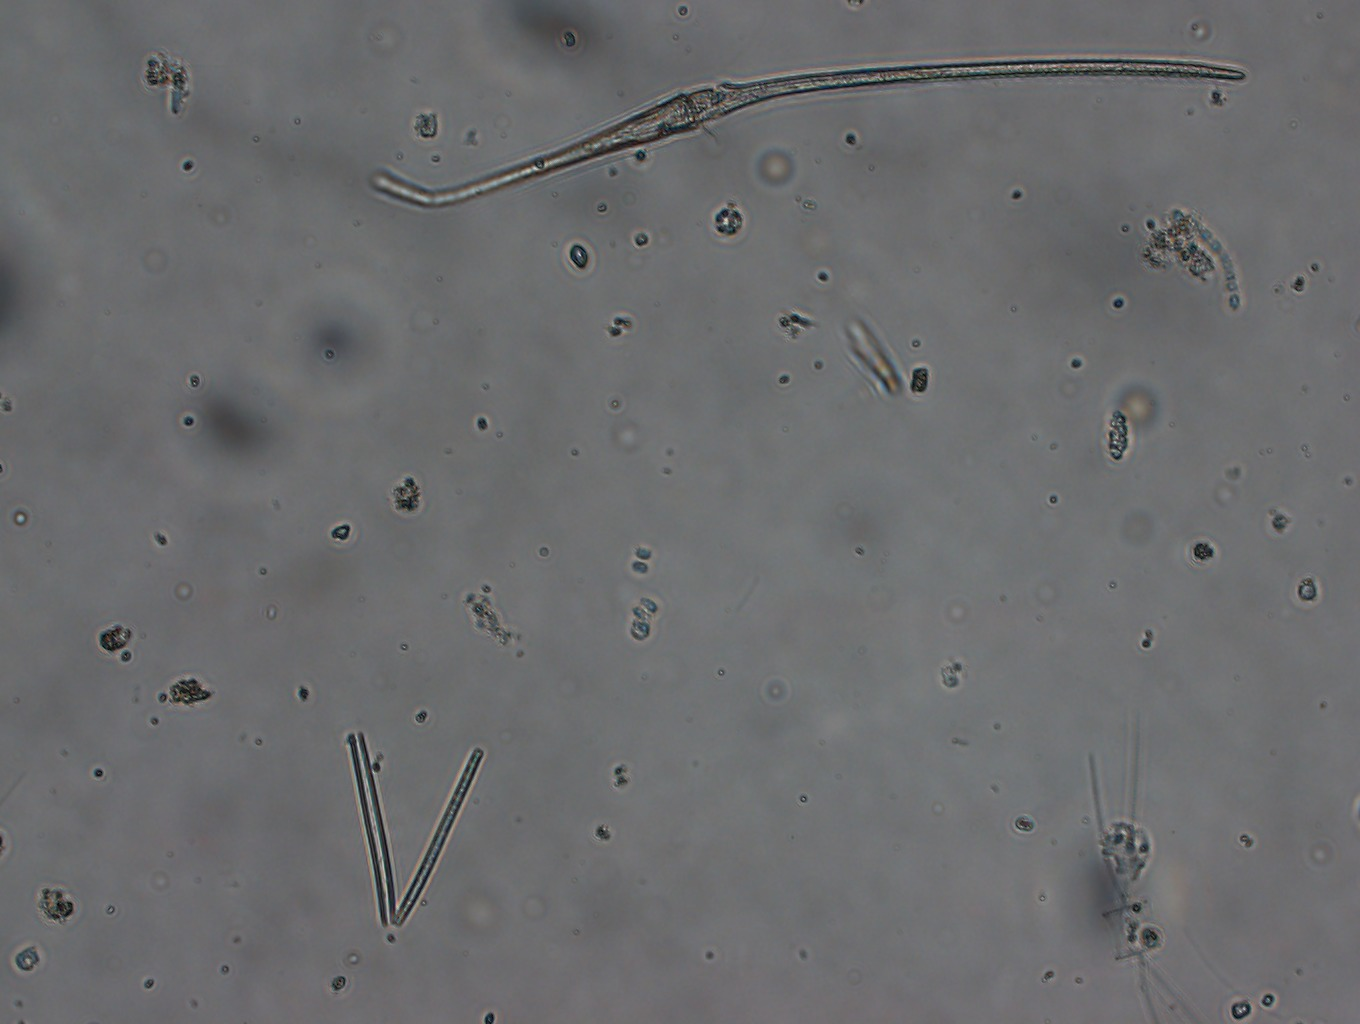ceratium fusus: (369, 42, 1255, 218)
chaetoceros: (1077, 725, 1194, 1024)
thalassionema frauenfeldii: (345, 734, 493, 934)
